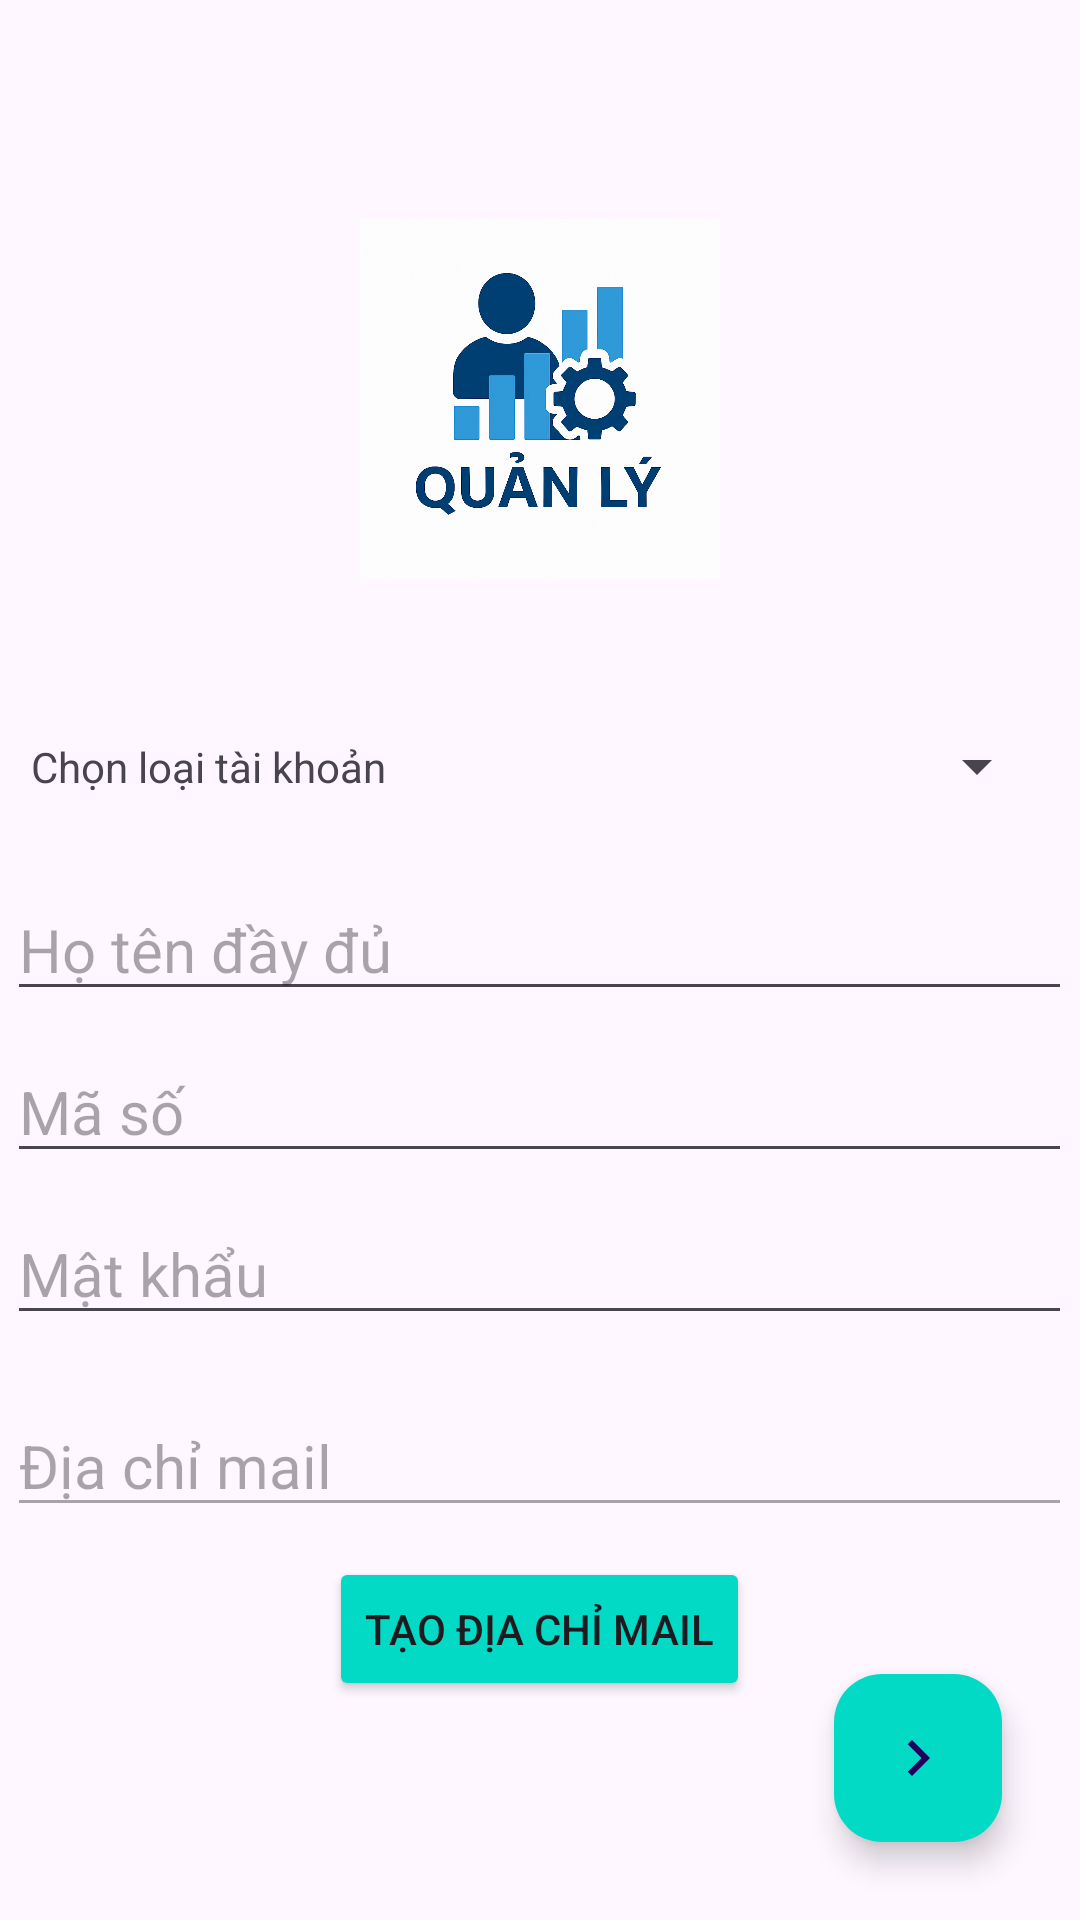

Where to tap for icons on this 1080 x 1920 app screen, as [x,y]:
navigate next: [918,1758]
